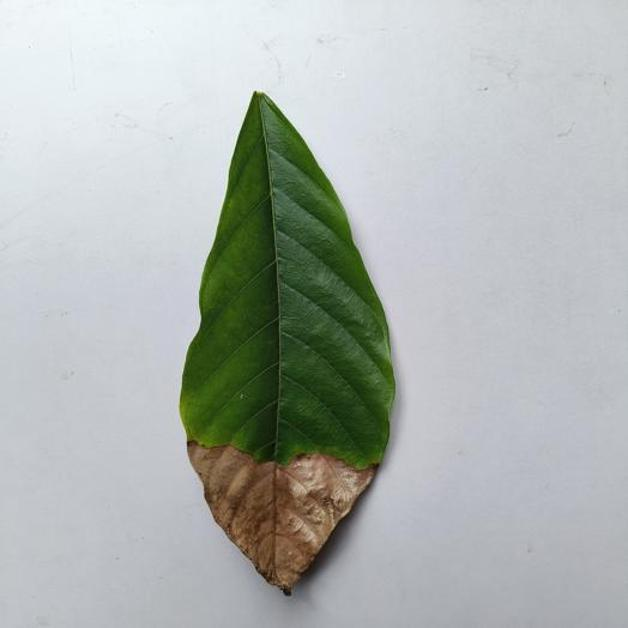Potassium: (180, 93, 394, 591)
